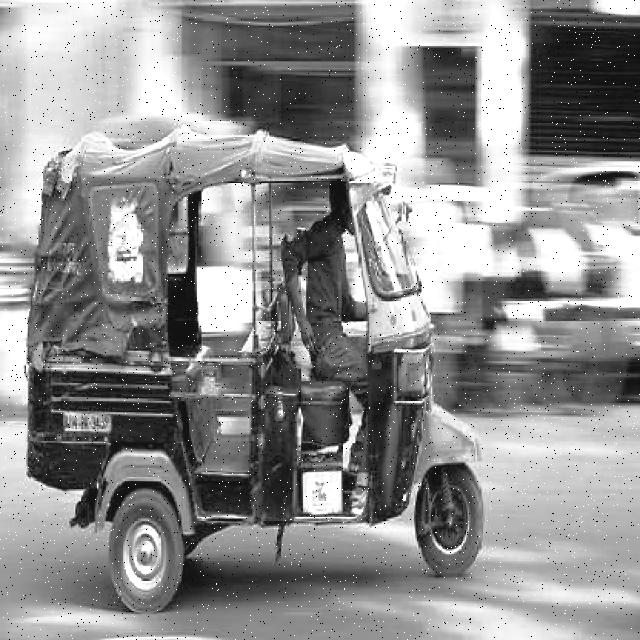Auto-Rickshaw: (22, 105, 486, 613)
